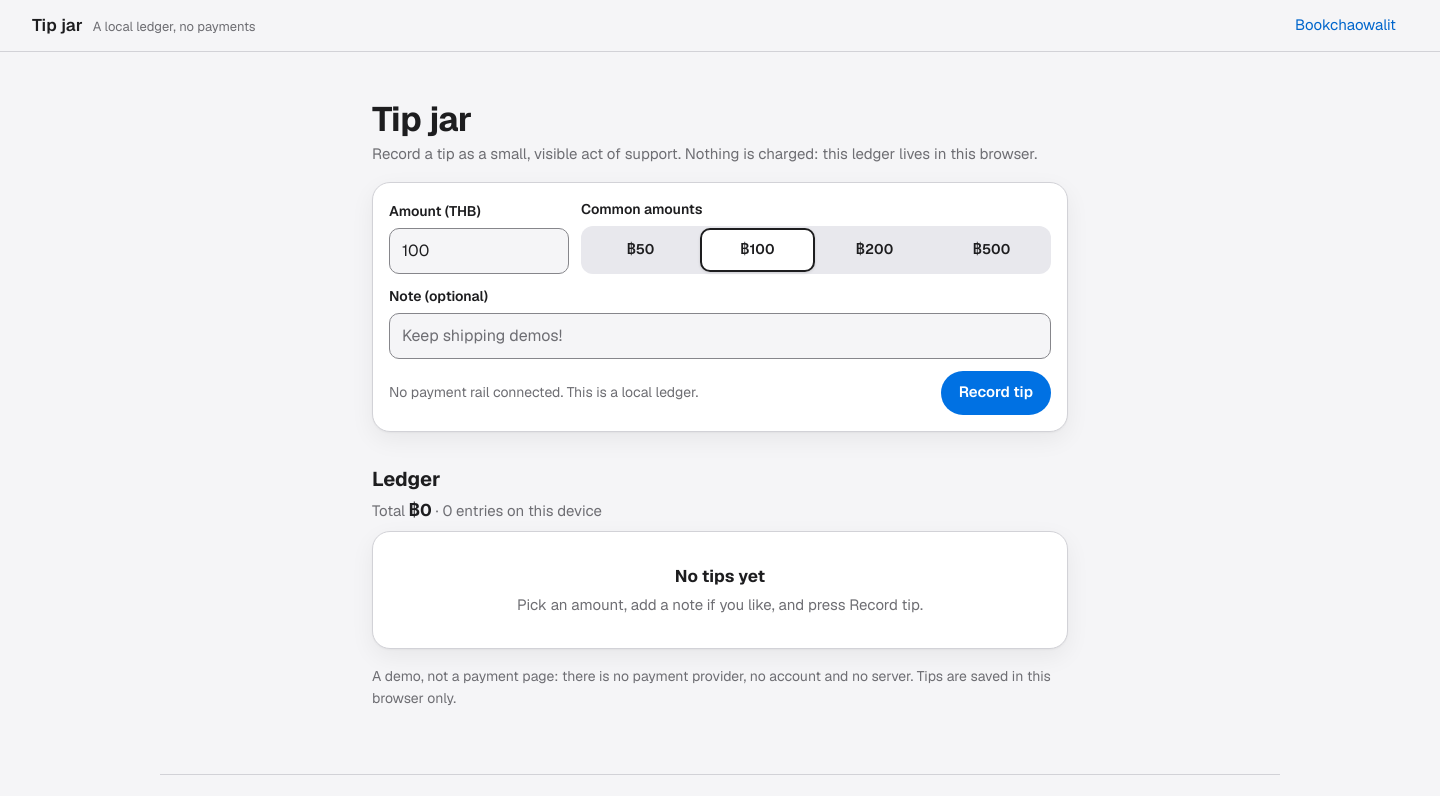
Scenario: batch Undo › Undo after a clear restores only what the clear removed
Later steps or results of the test are not shown.
Click the button "฿50" at (640, 250), box [583,228,698,272]
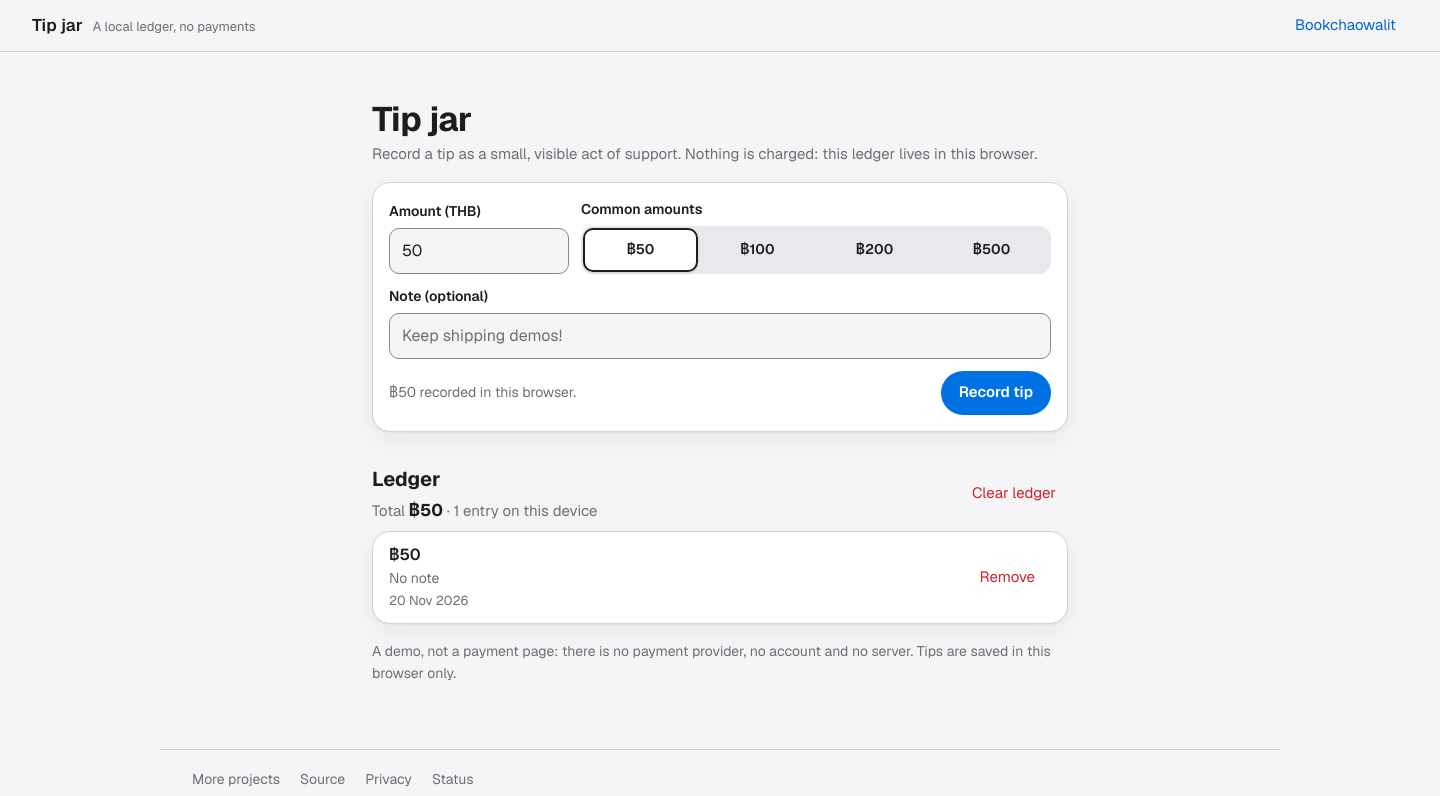
Click the button "฿100" at (758, 250), box [700,228,815,272]
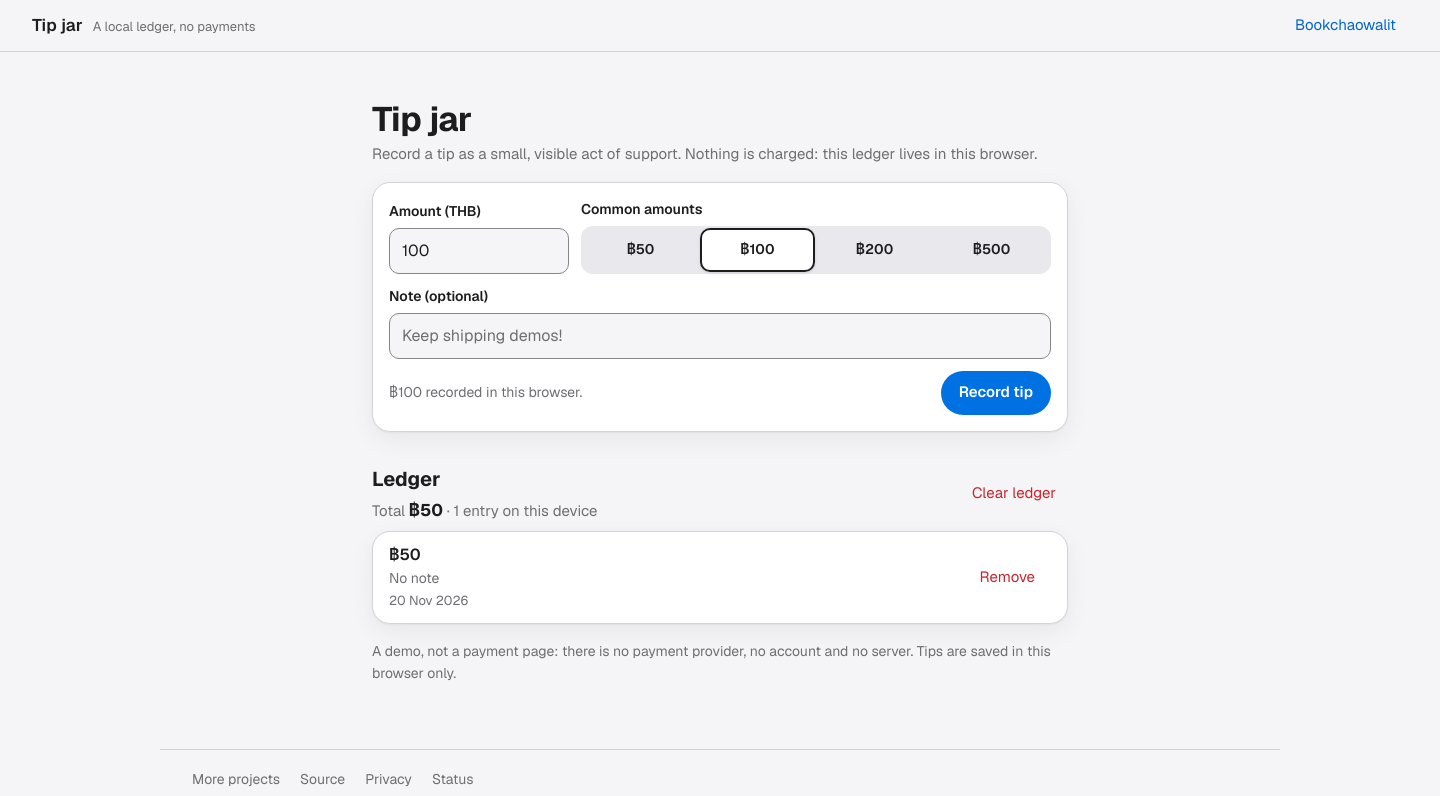
Click the button "Clear ledger" at (1014, 493), box [960,471,1068,515]
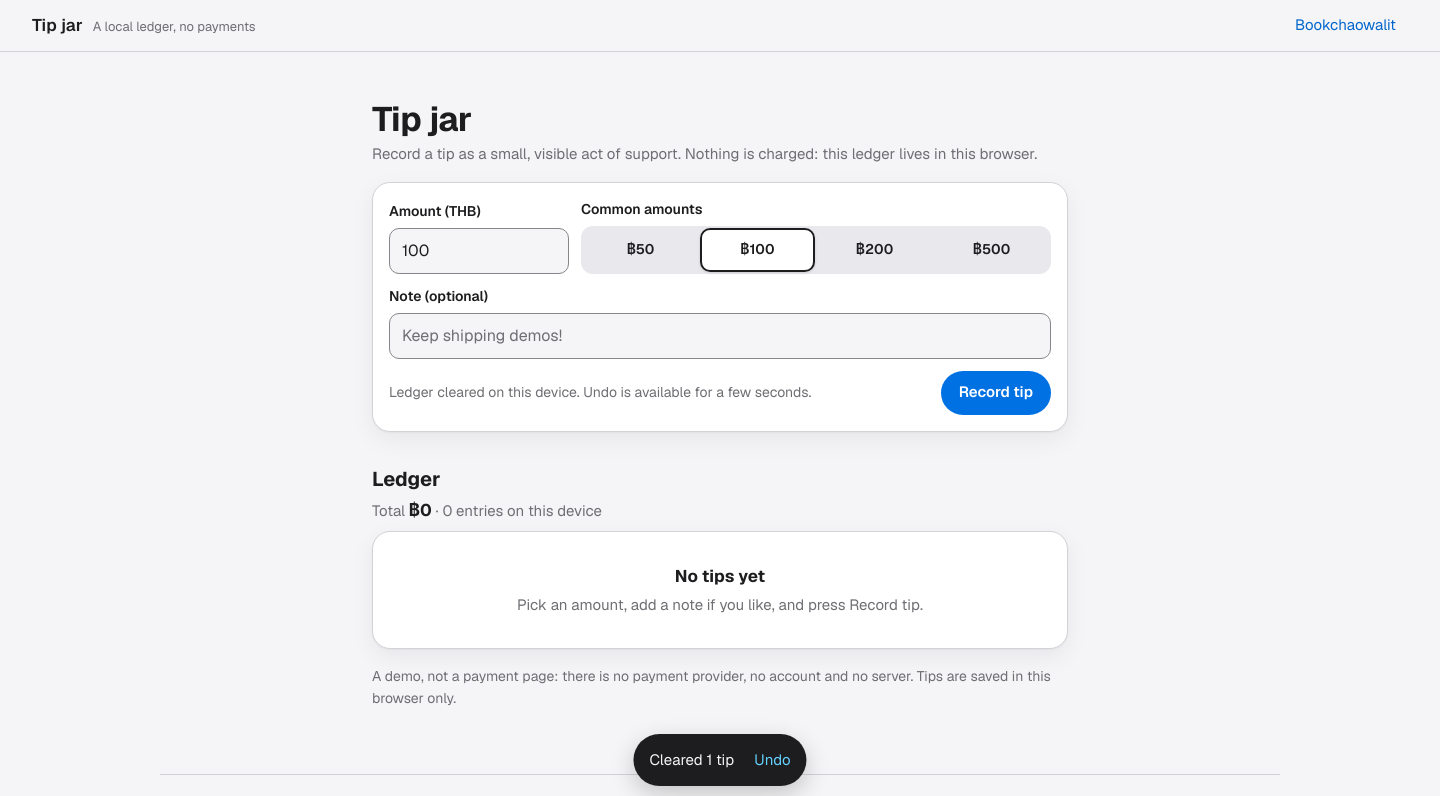
Expected: the text "Cleared 1 tip" is shown, [650,749,734,771]
